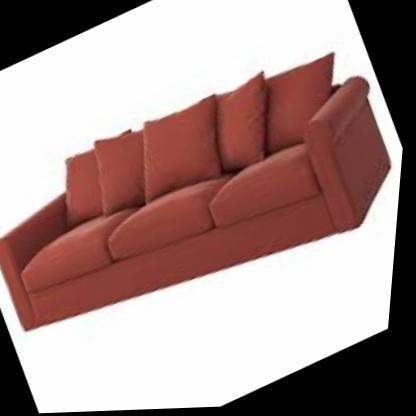Sofa: (0, 1, 415, 407)
